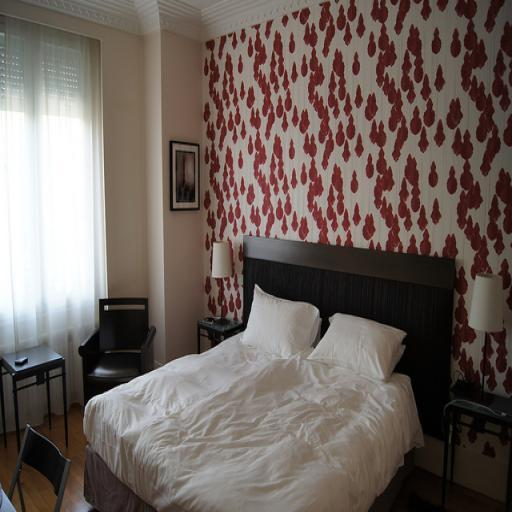bed: (80, 218, 468, 512)
